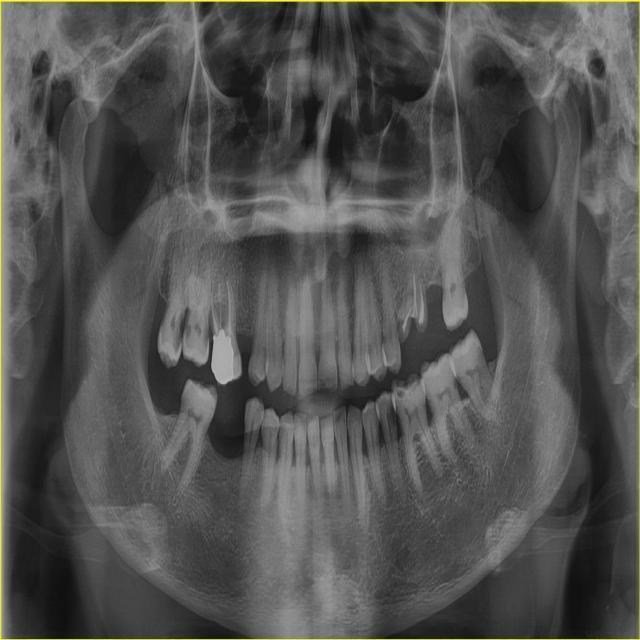72: (401, 271, 435, 334), (392, 295, 417, 343)
74: (206, 290, 220, 336), (226, 281, 231, 336), (218, 284, 222, 326)
NucleOSS Implant: (210, 329, 234, 383)
Sterngold Implant: (172, 308, 184, 359), (396, 380, 425, 400), (182, 306, 195, 343), (387, 400, 397, 427), (202, 320, 210, 352), (452, 375, 458, 391)
